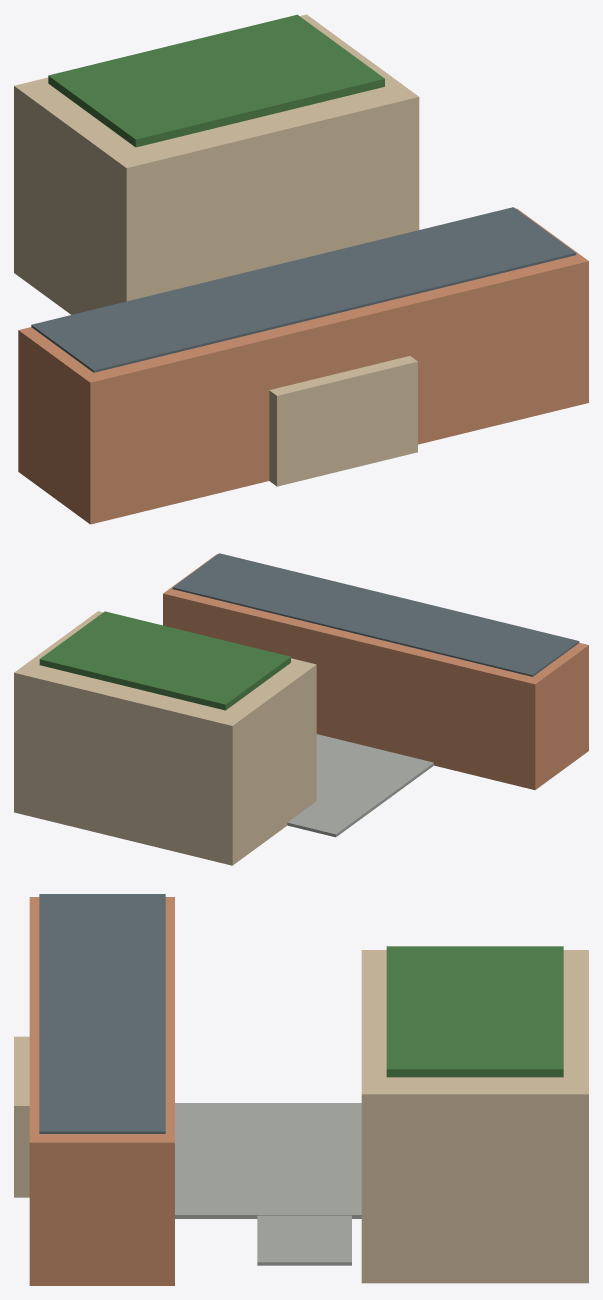
The model's file is Catalog-60.glb.
3 renders of one model, top to bottom at view 1: azimuth 30°, elevation 25°; view 2: azimuth 150°, elevation 25°; view 3: azimuth 270°, elevation 25°, orthographic. The views are drawn at different scales.
Parts seen in each view (by area): view 1: Metropolis Sandstone (×2), Metropolis Terracotta, Metropolis Graphite, Metropolis Green; view 2: Metropolis Sandstone, Metropolis Terracotta, Metropolis Graphite, Metropolis Green, Metropolis Paving; view 3: Metropolis Sandstone (×2), Metropolis Graphite, Metropolis Terracotta, Metropolis Paving (×2), Metropolis Green.
Part boxes in pixels (x1=…): Metropolis Sandstone (×2): x1=14, y1=14, x2=419, y2=486; Metropolis Terracotta: x1=18, y1=208, x2=588, y2=524; Metropolis Graphite: x1=31, y1=207, x2=576, y2=372; Metropolis Green: x1=48, y1=14, x2=384, y2=147; Metropolis Sandstone: x1=14, y1=611, x2=316, y2=865; Metropolis Terracotta: x1=163, y1=554, x2=588, y2=789; Metropolis Graphite: x1=172, y1=553, x2=579, y2=676; Metropolis Green: x1=39, y1=611, x2=290, y2=710; Metropolis Paving: x1=287, y1=734, x2=433, y2=837; Metropolis Sandstone (×2): x1=14, y1=950, x2=588, y2=1283; Metropolis Graphite: x1=39, y1=894, x2=165, y2=1133; Metropolis Terracotta: x1=29, y1=897, x2=174, y2=1285; Metropolis Paving (×2): x1=175, y1=1103, x2=361, y2=1265; Metropolis Green: x1=386, y1=946, x2=563, y2=1077.
Size of the model in its own units: 92 by 35.5 by 91.
